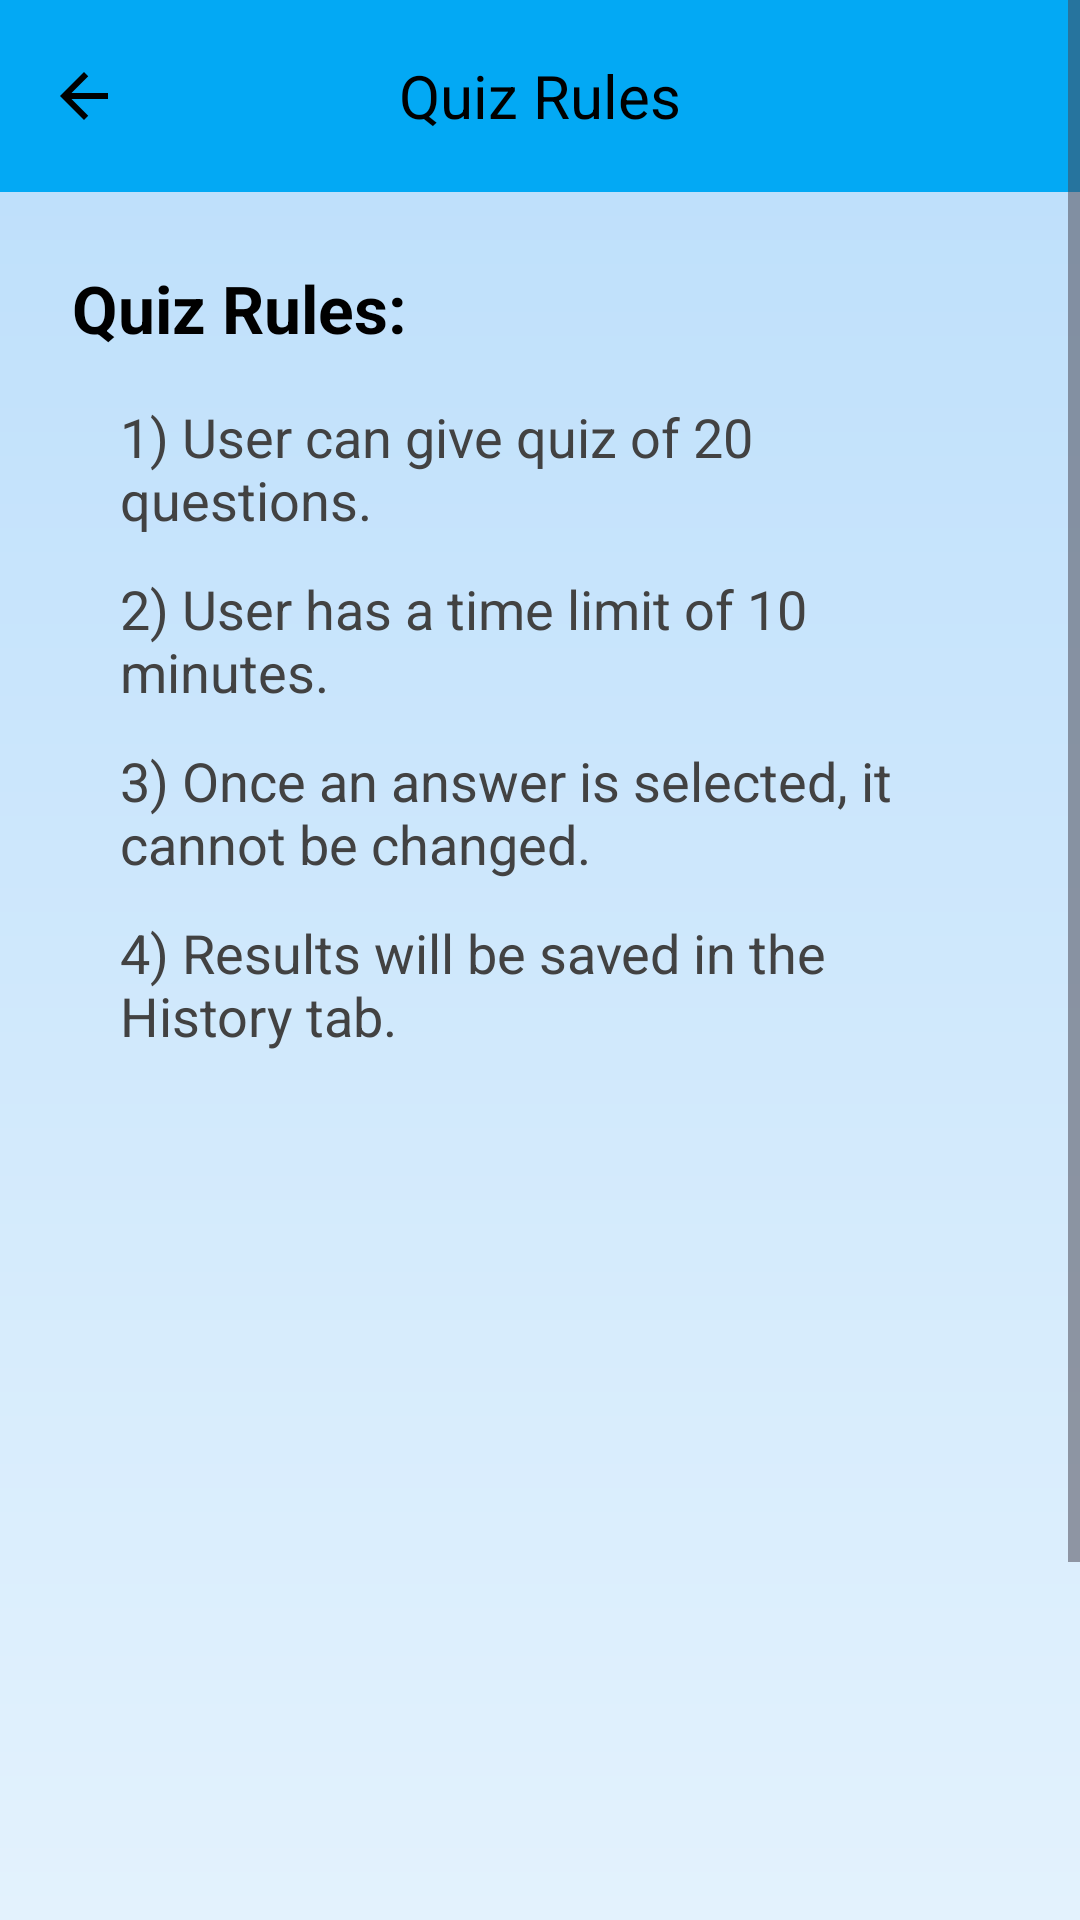

Point at icon controls on the screen. Image size 1080×1920, points as (x,y).
Back: (84,96)
